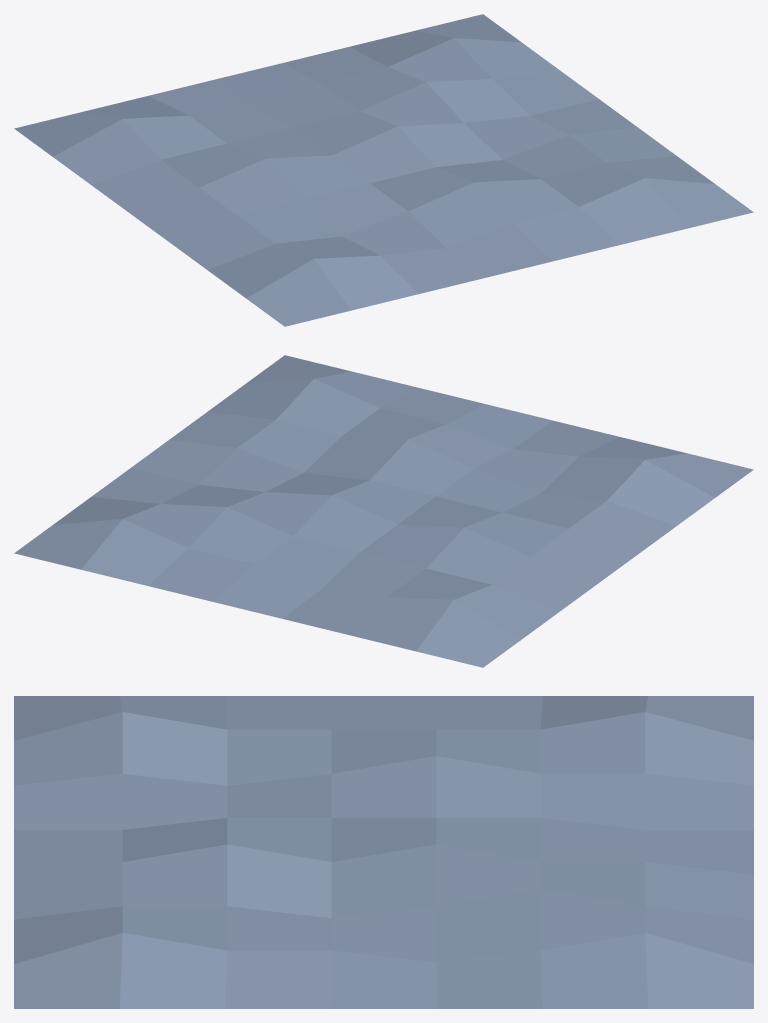
The model's file is test_floor.fbx.
The picture shows the model from 3 angles, top to bottom: view 1: azimuth 30°, elevation 25°; view 2: azimuth 150°, elevation 25°; view 3: azimuth 270°, elevation 25°; orthographic projection. The views are drawn at different scales.
Parts seen in each view (by area): view 1: Cube; view 2: Cube; view 3: Cube.
Boxes of the visible parts, bbox=[...] form: Cube: bbox=[14, 14, 753, 326]; Cube: bbox=[14, 355, 753, 667]; Cube: bbox=[14, 696, 753, 1008].
Size of the model in its own units: 1011 by 45.52 by 1011.
